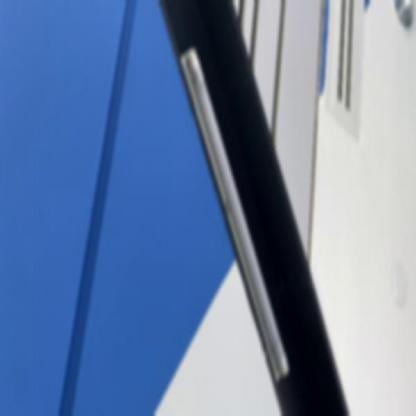light_off: (176, 38, 295, 385)
